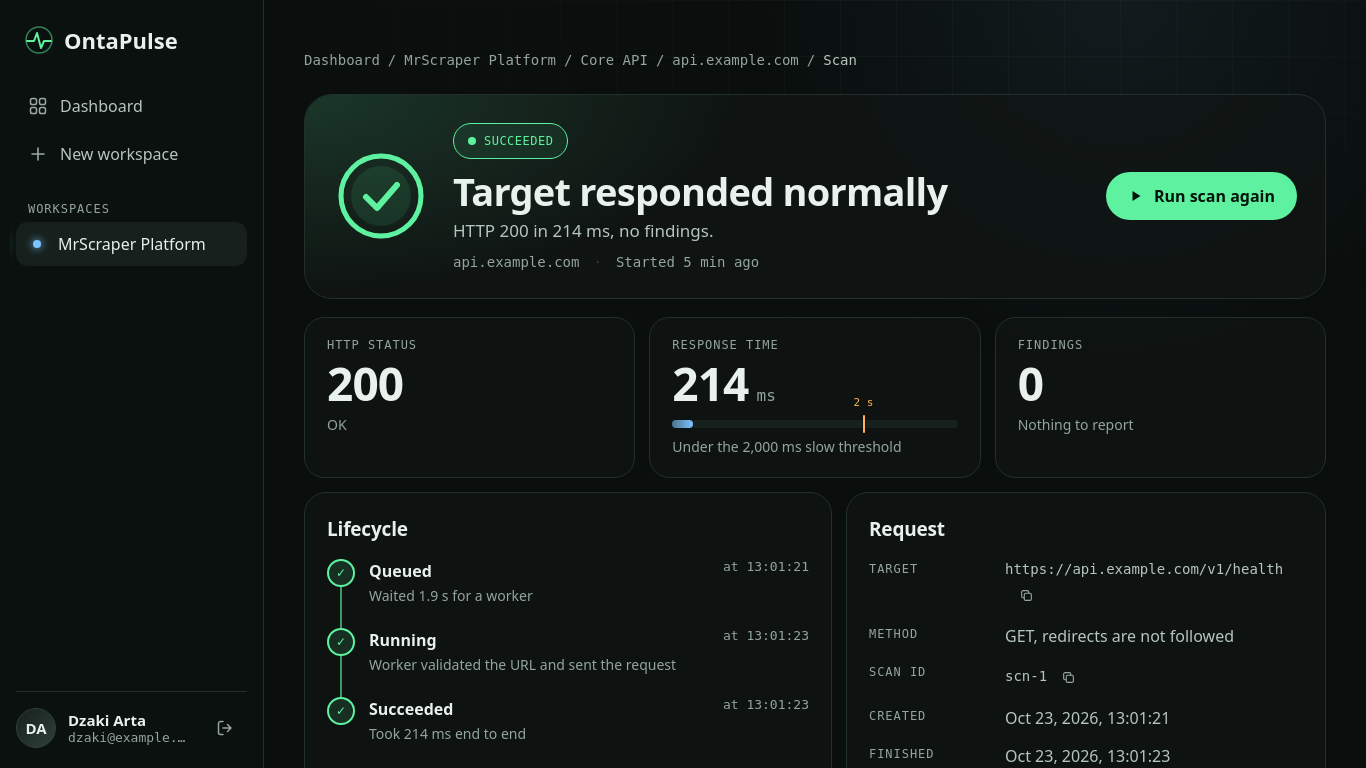
Test: ScanPage (nested route) › runs the scan again and opens the new scan
Click the button "Run scan again". click: (1201, 196)
box: top-left (1106, 172), bottom-right (1297, 220)
(page scrolled)
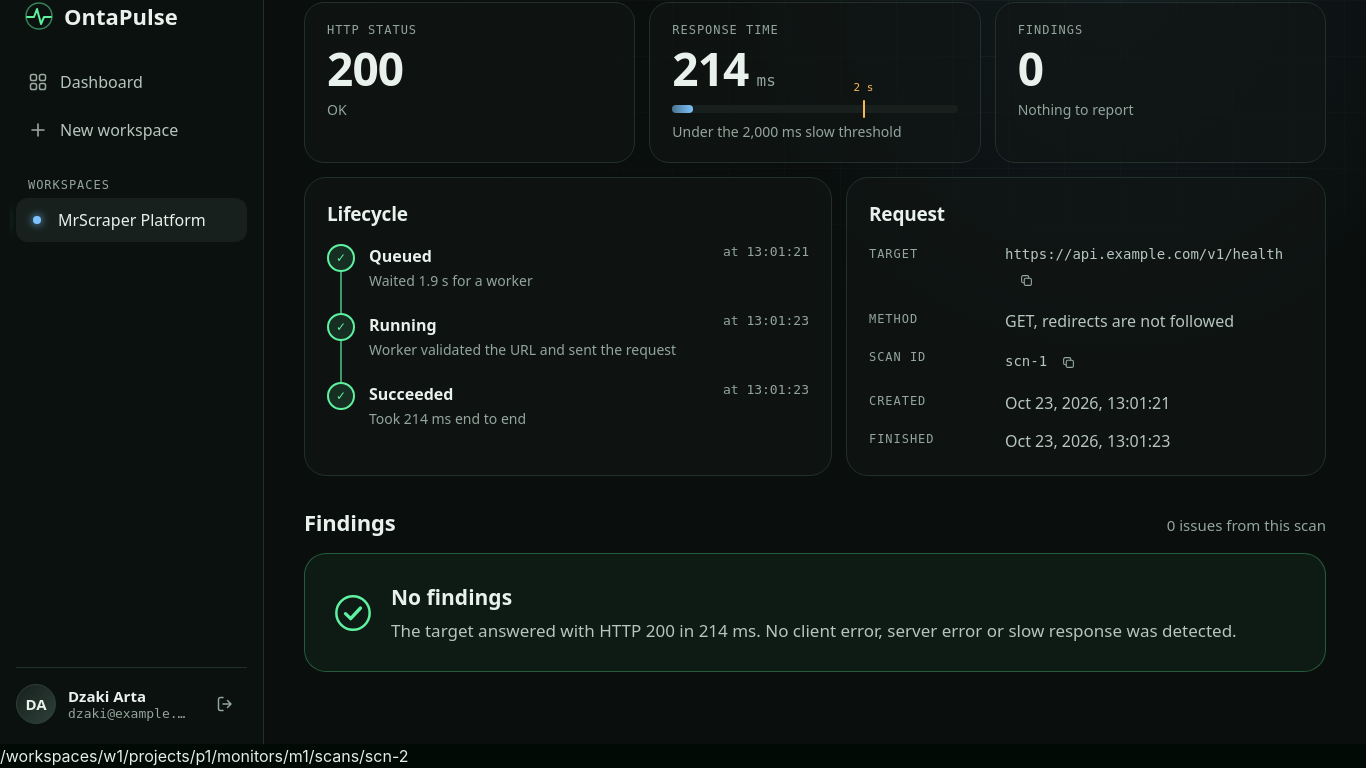
Now the text with test id "where" reads "/workspaces/w1/projects/p1/monitors/m1/scans/scn-2", box top-left (0, 746), bottom-right (408, 766)
